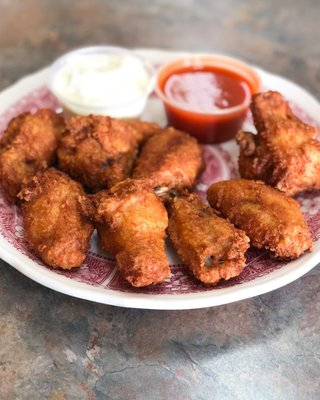sushi: (154, 55, 262, 144), (46, 45, 153, 120)
